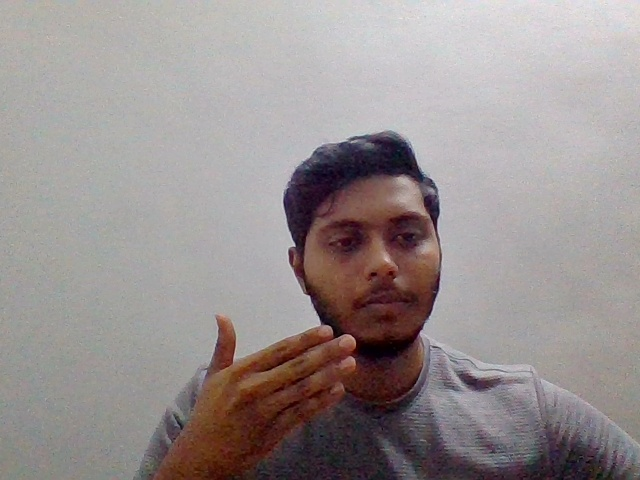Thanks: (158, 309, 586, 480)
